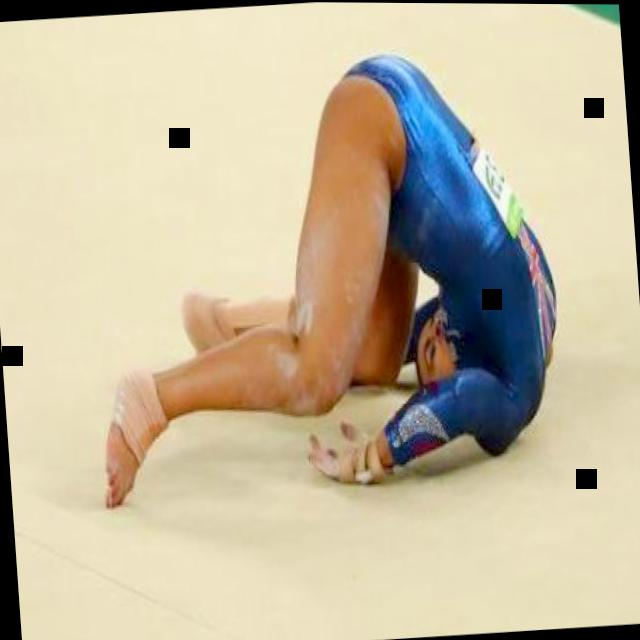Fall-Detected: (70, 16, 572, 508)
